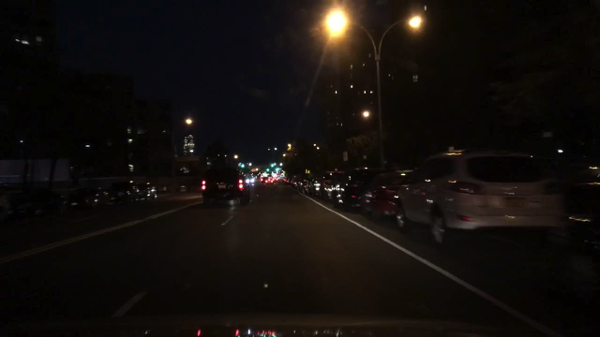car: (392, 146, 568, 247), (558, 174, 599, 252), (359, 170, 406, 222), (334, 167, 384, 210), (199, 165, 250, 207), (22, 184, 71, 220), (0, 184, 36, 222), (64, 185, 112, 212), (109, 180, 141, 206), (321, 170, 344, 198), (323, 173, 344, 199), (136, 182, 158, 200), (308, 174, 324, 197), (297, 176, 312, 193), (290, 174, 303, 187), (285, 172, 295, 184), (245, 174, 256, 184), (259, 174, 270, 184), (270, 174, 280, 184), (282, 172, 290, 182)
